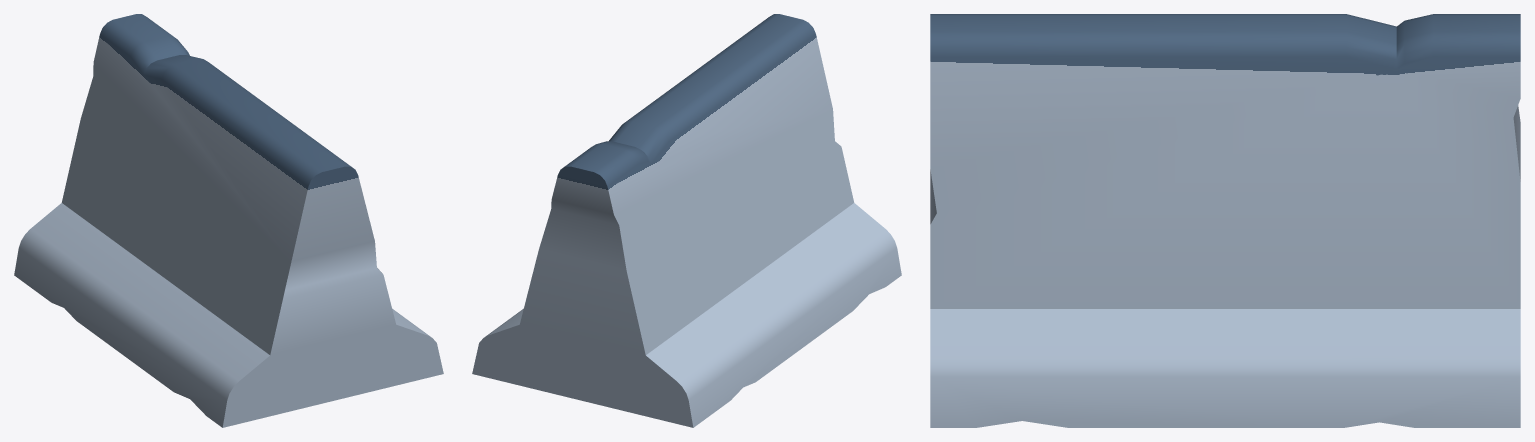
Rendered from Barrera_02.fbx.
3 views of the same model, side by side, from view 1: azimuth 30°, elevation 25°; view 2: azimuth 150°, elevation 25°; view 3: azimuth 270°, elevation 25° (orthographic). The views are drawn at different scales.
Visible parts, largest first — view 1: Barrera_02; view 2: Barrera_02; view 3: Barrera_02.
Part boxes in pixels (box(x1,y1,x2,y2)): Barrera_02: box(14, 14, 443, 427); Barrera_02: box(472, 14, 901, 427); Barrera_02: box(930, 14, 1520, 427).
Size of the model in its own units: 200 by 200 by 326.
